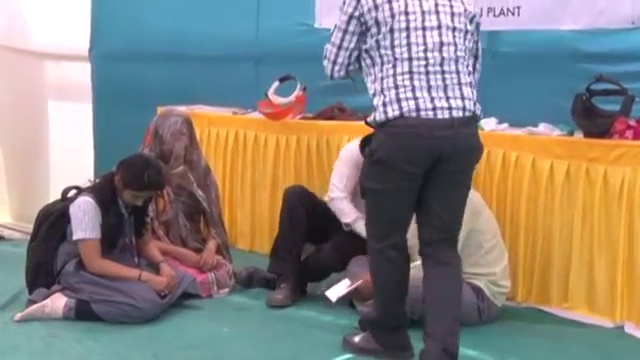helmet_off: (105, 151, 164, 213), (148, 112, 201, 171)
person: (323, 0, 487, 360), (14, 153, 196, 327), (238, 130, 374, 308), (136, 104, 233, 297), (407, 185, 518, 331)
